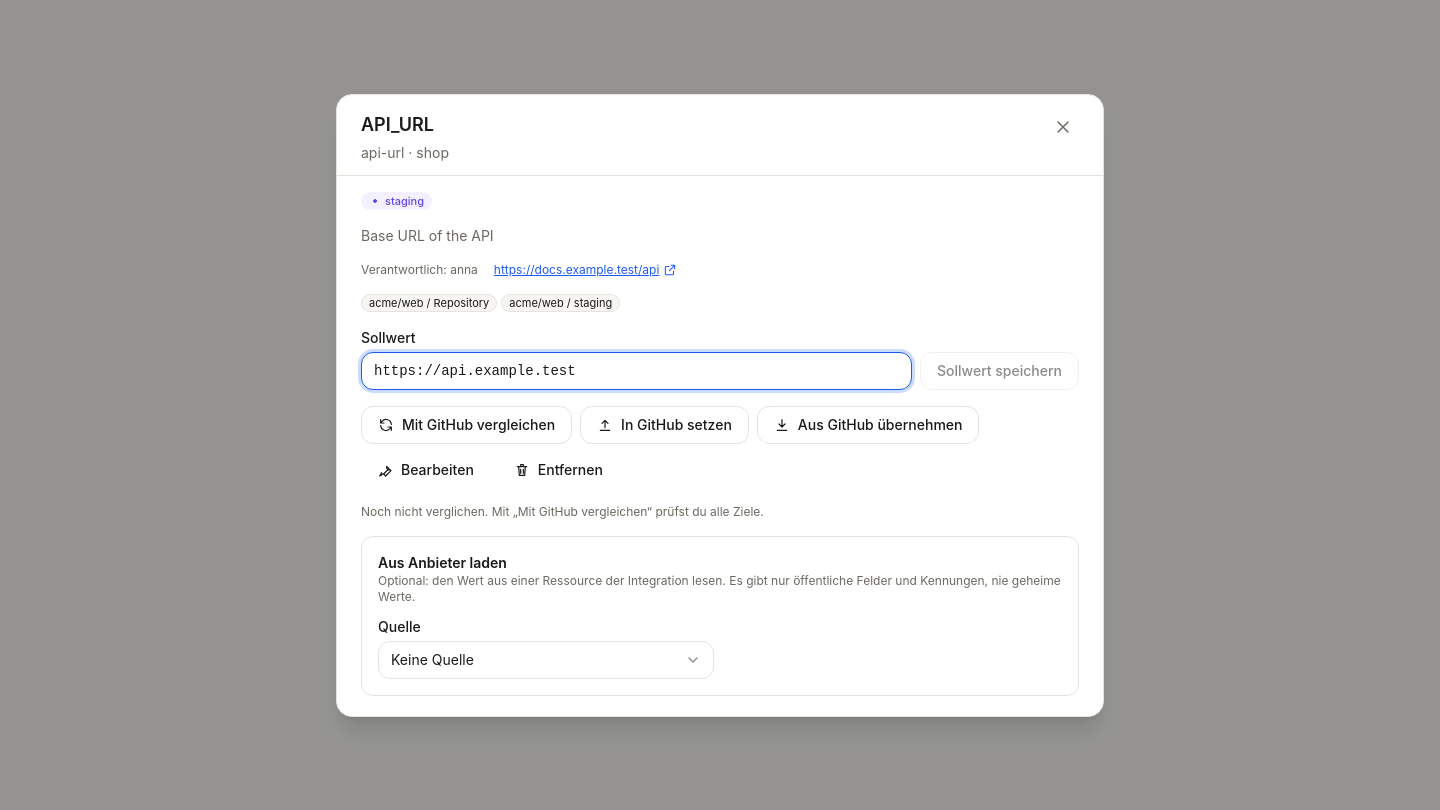
Test: VariableDetail › tells that an approval is needed instead of listing results
This screenshot has width=1440, height=810.
What coordinates should you click on to do the following:
click the button "In GitHub setzen"
I would click on:
 (664, 424)
Its box is [580, 406, 749, 444].
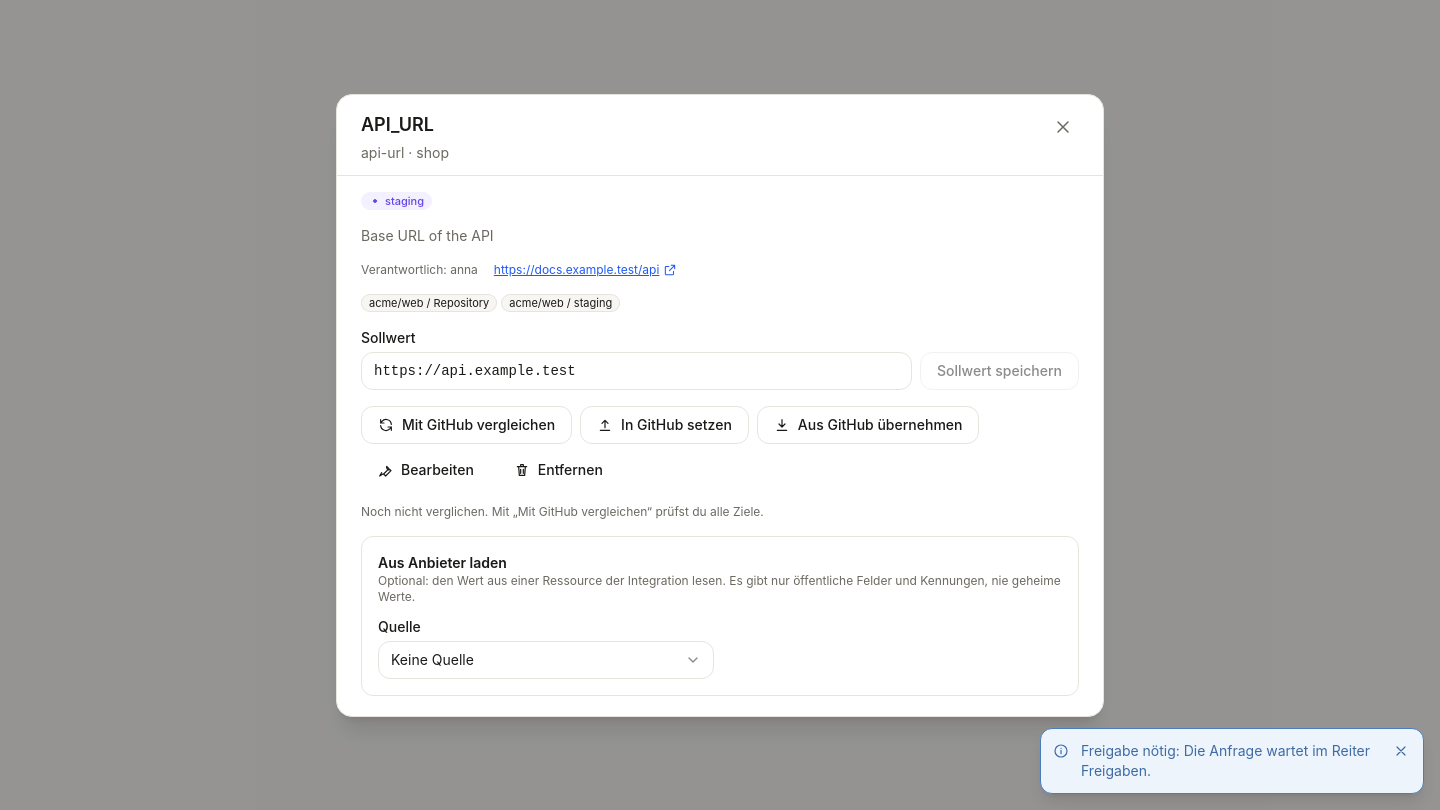
Expected: the text "Freigabe nötig: Die Anfrage wartet im Reiter Freigaben." is shown, [1081, 741, 1379, 781]
